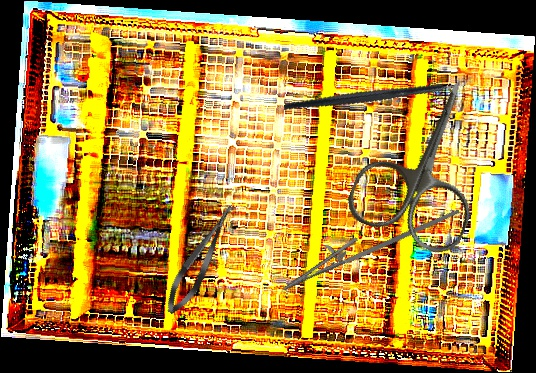Chopper: (282, 31, 474, 152)
Iris Scissors: (341, 61, 515, 260)
Micro Scissor: (158, 198, 244, 320)
Needle Holder: (274, 176, 461, 312)
